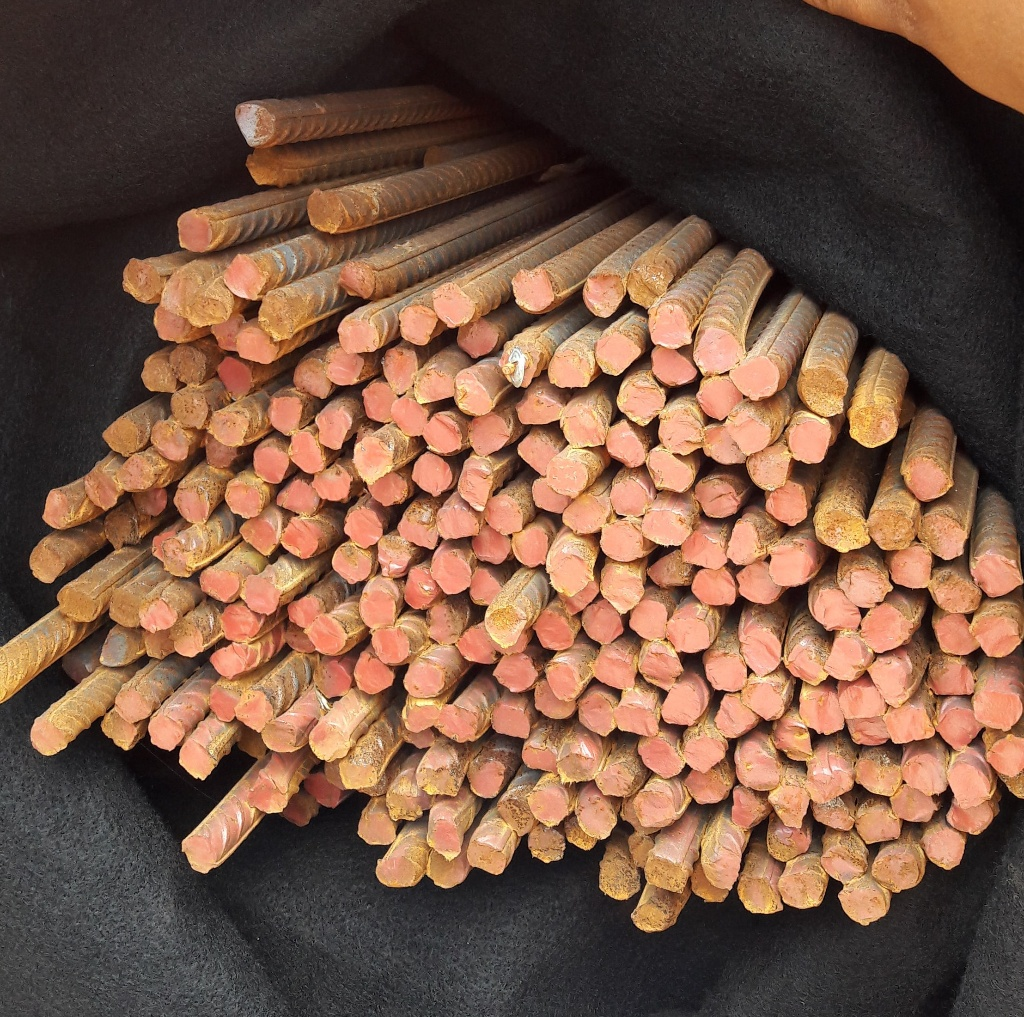dipstick: (659, 669, 713, 727), (874, 843, 928, 895), (861, 603, 913, 653), (806, 754, 856, 803), (871, 661, 925, 706), (221, 254, 271, 301), (231, 103, 284, 147), (969, 614, 1022, 658), (919, 511, 967, 559), (637, 734, 685, 782), (618, 376, 664, 426), (906, 749, 956, 795), (840, 880, 890, 926), (922, 653, 973, 698), (695, 329, 742, 377), (825, 632, 871, 681), (455, 461, 501, 510), (815, 506, 869, 547), (804, 368, 851, 415), (647, 450, 697, 494), (601, 562, 645, 612), (411, 364, 462, 407), (740, 628, 783, 679), (546, 553, 598, 595), (560, 403, 605, 451), (901, 457, 950, 501), (973, 554, 1023, 597), (410, 453, 455, 500), (920, 825, 967, 870), (157, 537, 204, 582), (642, 504, 692, 546), (865, 509, 916, 550), (431, 282, 477, 327), (529, 607, 574, 653), (379, 346, 423, 393), (639, 645, 683, 692), (657, 410, 706, 452), (600, 522, 650, 563), (781, 868, 831, 909), (768, 545, 819, 585), (763, 484, 809, 528), (681, 730, 728, 773), (788, 415, 830, 463), (885, 704, 933, 746), (432, 547, 474, 595), (629, 787, 677, 829), (847, 406, 896, 447), (306, 659, 355, 700), (932, 573, 982, 613), (683, 527, 728, 571), (333, 540, 376, 586), (607, 421, 649, 468), (857, 798, 904, 840), (765, 822, 813, 863), (929, 615, 978, 655), (845, 565, 889, 609), (885, 548, 932, 589), (110, 452, 165, 487), (652, 347, 700, 387), (465, 415, 515, 453), (150, 415, 194, 458), (573, 793, 618, 835), (972, 692, 1023, 729), (646, 553, 697, 590), (176, 210, 217, 256), (736, 359, 782, 400), (790, 637, 831, 683), (652, 300, 692, 347), (281, 516, 328, 556), (375, 848, 423, 887), (527, 782, 570, 825), (581, 274, 623, 318), (288, 429, 332, 471), (516, 522, 558, 566), (714, 695, 758, 737), (595, 333, 640, 374), (645, 850, 691, 890), (544, 352, 592, 390), (453, 371, 495, 414), (467, 830, 509, 873), (702, 847, 745, 889), (307, 189, 348, 233), (105, 588, 149, 629), (668, 612, 712, 653), (697, 474, 742, 514), (238, 512, 284, 551), (890, 779, 936, 818), (600, 851, 639, 897), (728, 515, 765, 563), (513, 270, 555, 312), (628, 597, 670, 639), (171, 740, 214, 781), (703, 424, 747, 464), (799, 692, 843, 732), (465, 754, 505, 798), (640, 737, 685, 776), (481, 498, 527, 536), (399, 569, 441, 610), (555, 747, 597, 788), (737, 749, 779, 790), (355, 656, 398, 696), (745, 679, 789, 718), (98, 509, 143, 547), (702, 657, 747, 695), (822, 845, 868, 882), (530, 480, 576, 517), (261, 293, 297, 340), (456, 320, 503, 356), (695, 568, 742, 604), (813, 590, 854, 631), (528, 823, 570, 863), (399, 302, 438, 345), (545, 456, 588, 495), (738, 563, 782, 601), (516, 390, 561, 427), (398, 510, 443, 547), (367, 627, 413, 663), (945, 803, 995, 836), (161, 275, 202, 315), (246, 774, 288, 813), (353, 440, 392, 481), (533, 681, 574, 720), (118, 259, 160, 297), (544, 662, 586, 700), (772, 724, 814, 762), (224, 478, 268, 514), (743, 879, 787, 915), (80, 468, 120, 507), (461, 622, 500, 662), (307, 615, 348, 653), (309, 723, 351, 760), (244, 151, 287, 187), (419, 757, 462, 793), (494, 656, 537, 692), (169, 345, 207, 385), (394, 395, 432, 435), (361, 386, 401, 424), (297, 357, 334, 398), (314, 407, 351, 448), (334, 318, 376, 354), (748, 452, 790, 488), (467, 419, 512, 452), (855, 759, 900, 792), (180, 298, 233, 326), (314, 465, 353, 503), (138, 625, 177, 663), (987, 737, 1024, 777), (30, 540, 66, 581), (56, 590, 103, 621), (98, 714, 142, 747), (493, 703, 531, 741), (218, 359, 255, 398), (173, 484, 212, 521), (100, 420, 145, 452), (615, 706, 663, 736), (596, 657, 637, 692), (337, 261, 376, 297), (139, 358, 178, 394), (346, 508, 382, 547), (42, 491, 82, 526), (360, 586, 395, 626), (206, 684, 241, 724), (334, 759, 374, 794), (702, 382, 739, 419), (442, 503, 479, 540), (586, 605, 623, 642), (172, 387, 208, 425), (443, 706, 481, 742), (200, 568, 239, 603), (184, 837, 223, 872), (102, 634, 146, 665), (255, 447, 295, 481), (110, 689, 150, 723), (383, 788, 428, 818), (325, 349, 362, 385), (358, 807, 394, 844), (274, 482, 318, 512), (630, 268, 664, 306), (848, 716, 891, 745), (270, 400, 305, 435), (608, 480, 643, 515), (149, 713, 183, 749), (469, 570, 502, 607), (519, 746, 558, 777), (597, 764, 636, 795), (258, 722, 301, 750), (156, 308, 191, 342), (370, 472, 406, 505), (30, 719, 63, 755), (243, 577, 280, 609), (428, 823, 460, 859), (211, 645, 244, 679), (134, 601, 172, 630), (285, 597, 321, 627), (170, 623, 203, 655), (242, 692, 268, 729)
